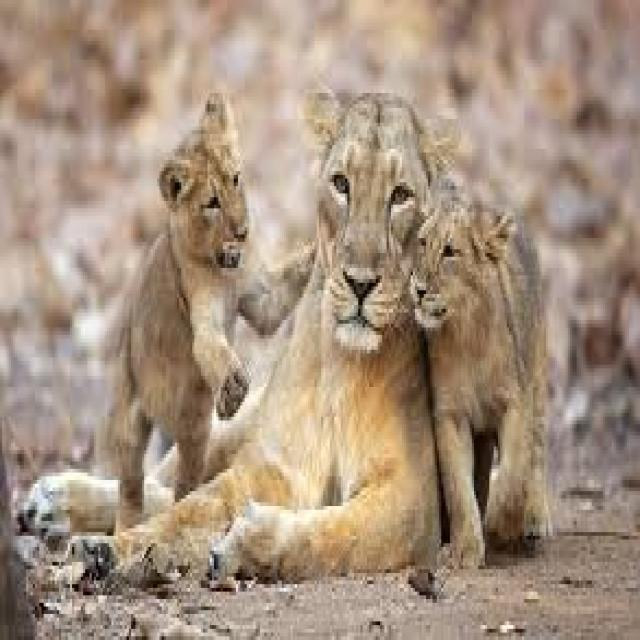Lion: (114, 85, 456, 588), (15, 86, 269, 543), (406, 171, 553, 566)
Tiger: (150, 90, 314, 502)
